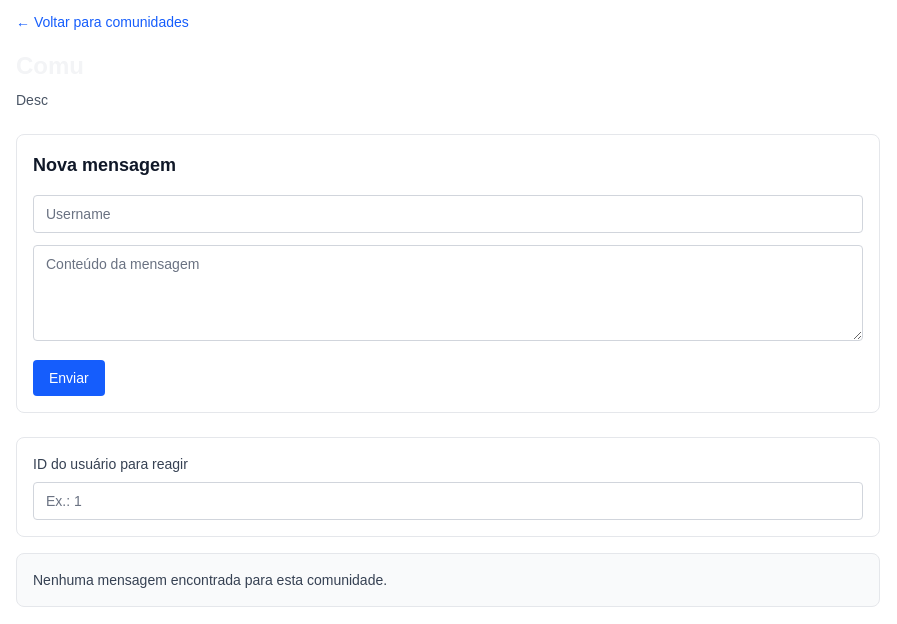
Scenario: CommunityTimelinePage › should validate required fields before creating a message
The image size is (897, 624).
Click the button "Enviar" at coordinates (69, 378), box [33,360,105,396]
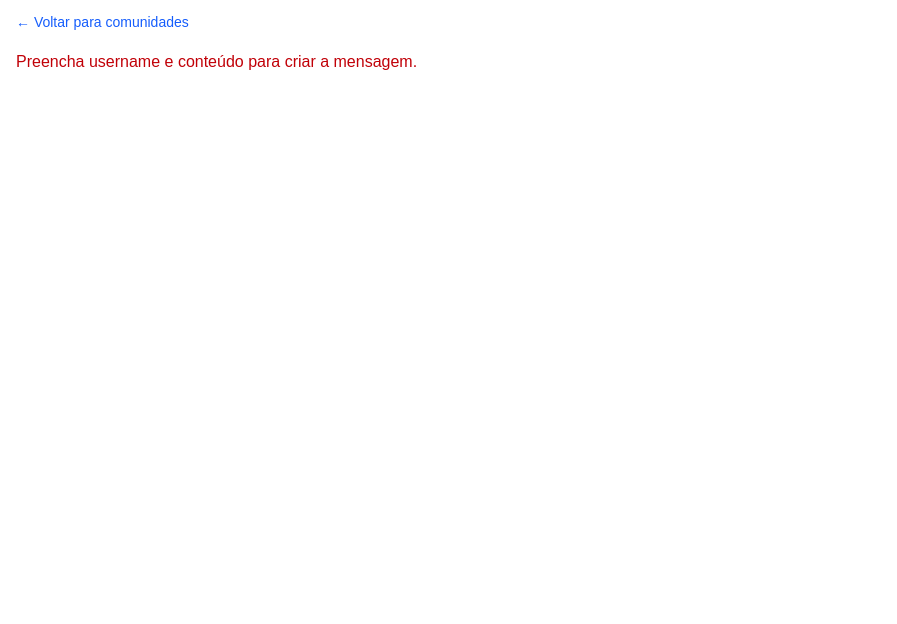
Now the text "Preencha username e conteúdo para criar a mensagem." is shown, box [16,53,417,70]
